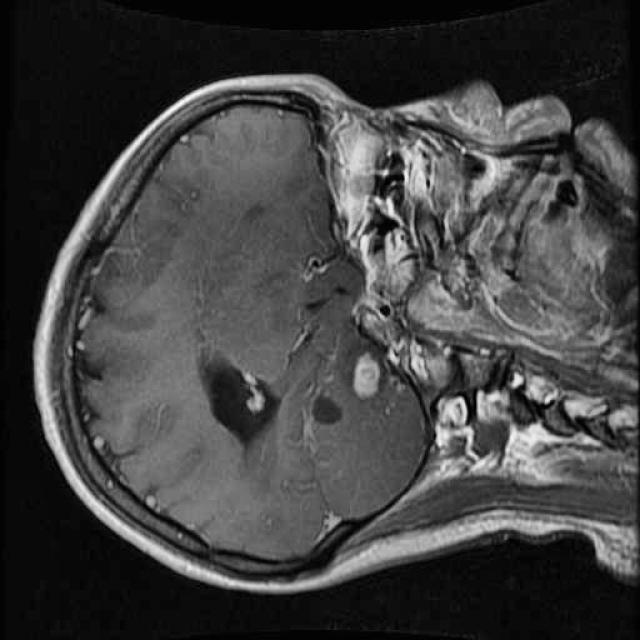Non-Tumor: (334, 335, 395, 412)
